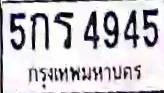4: (82, 10, 99, 48), (123, 9, 139, 47)
5: (142, 8, 158, 48), (9, 12, 25, 50)
9: (102, 10, 118, 48)
A01: (29, 11, 49, 50)
A35: (53, 11, 73, 49)
BKK: (24, 62, 144, 89)
